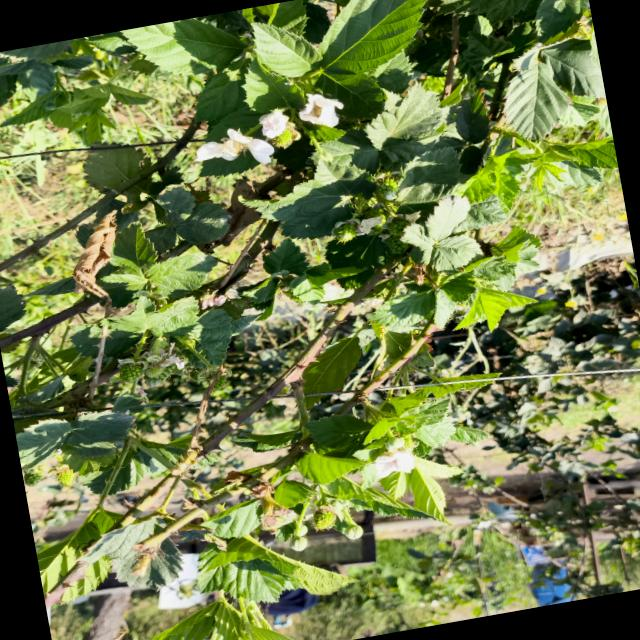boton: (385, 435, 405, 450), (344, 524, 363, 539), (289, 536, 307, 551), (295, 524, 308, 537)
flor: (195, 129, 274, 163), (299, 93, 343, 126), (373, 449, 414, 478), (259, 109, 288, 138)
